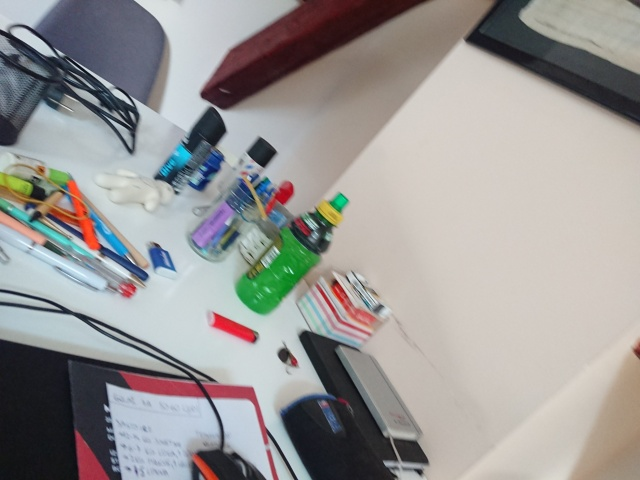Vindi Iso Sport Lemon-Grapefruit 500mL: (233, 190, 351, 317)
